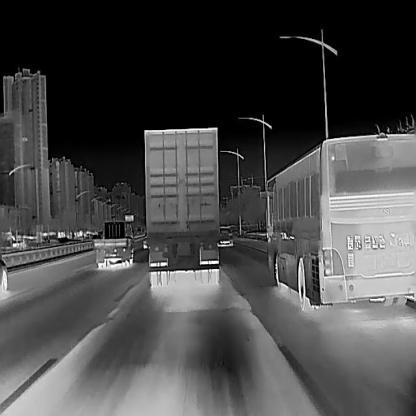car: (260, 132, 416, 312), (144, 126, 219, 288), (93, 221, 133, 268), (216, 224, 233, 246), (0, 256, 8, 295)
